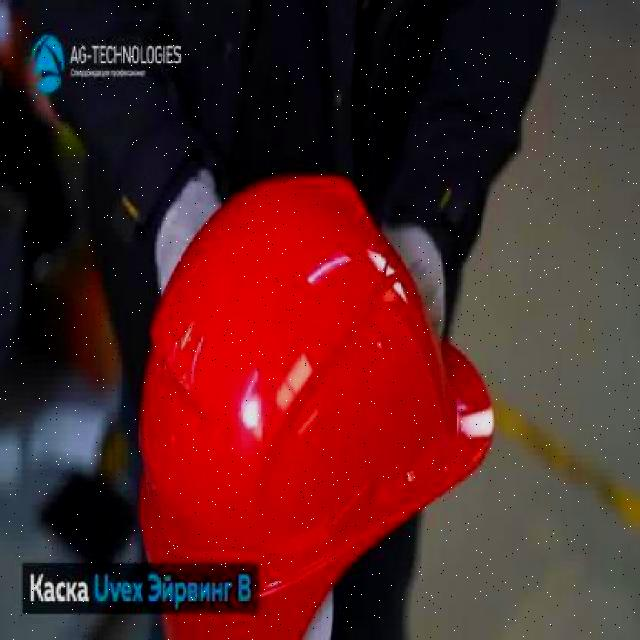Helmet: (134, 171, 498, 638)
